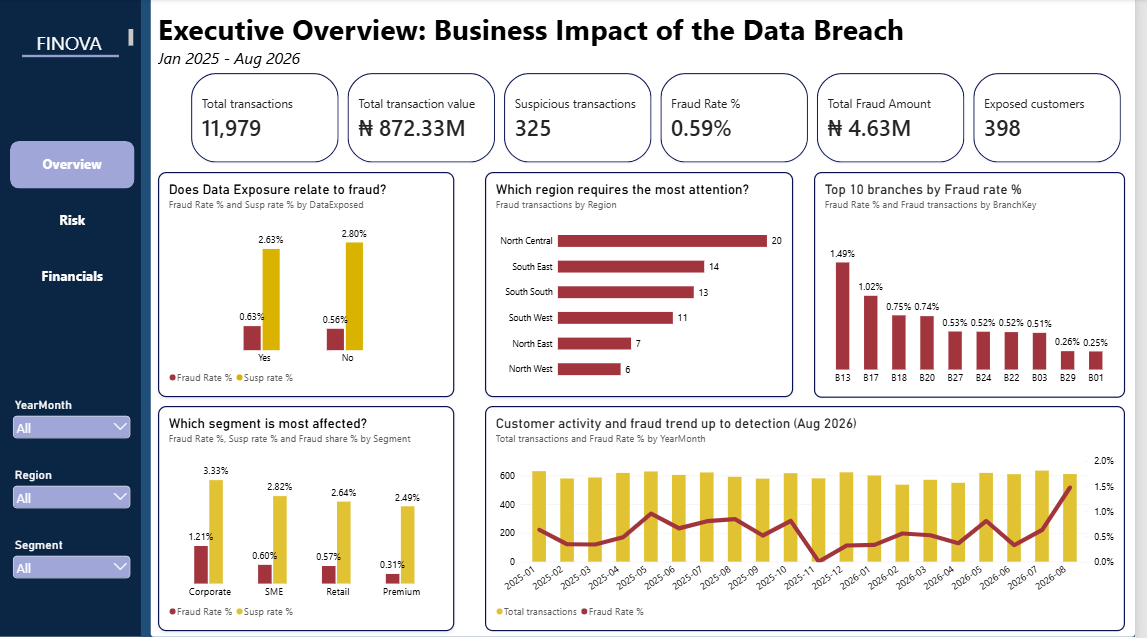

The page's visual inventory and layout, read from the dashboard file:
{"tool":"powerbi","page":{"name":"Overview ","canvas":[1920,1080],"ordinal":0},"visuals":[{"type":"cardVisual","fields":{"Data":["Measuress.Total transactions","Measuress.Total transaction value","Measuress.Suspicious transactions","Measuress.Fraud Rate %","Measuress.Fraud Amount","Measuress.Exposed customers"]},"box":[322.3,121.5,1579.5,158.6],"z":0},{"type":"clusteredColumnChart","title":"Which segment is most affected?","fields":{"Category":["Dim_CustomerSegment.Segment"],"Y":["Measuress.Fraud Rate %","Measuress.Susp rate %"]},"box":[270,686.8,499.5,379.7],"z":1000},{"type":"clusteredBarChart","title":"Which region requires the most attention?","fields":{"Category":["Dim_Region.Region"],"Y":["Measuress.Fraud txns"]},"box":[821.8,291.9,519.8,379.7],"z":2000},{"type":"lineClusteredColumnComboChart","title":"Customer activity and fraud trend up to detection (Aug 2026)","fields":{"Category":["Dim_Date.YearMonth"],"Y":["Measuress.Total transactions"],"Y2":["Measuress.Fraud Rate %"]},"box":[821.8,686.8,1080,379.7],"z":3000},{"type":"textbox","box":[269.2,17.3,1321.2,101.9],"z":5000},{"type":"pageNavigator","box":[20.2,239.6,210,270],"z":6000},{"type":"slicer","fields":{"Values":["Dim_Date.YearMonth"]},"box":[20.2,673.3,207.6,86.1],"z":7000},{"type":"slicer","fields":{"Values":["Dim_Region.Region"]},"box":[20.2,791.4,207.6,86.1],"z":8000},{"type":"slicer","fields":{"Values":["Dim_CustomerSegment.Segment"]},"box":[20.2,909.6,207.6,86.1],"z":9000},{"type":"textbox","box":[20.2,50.6,207.6,42.2],"z":10000},{"type":"shape","box":[40.5,70.9,163.7,50.6],"z":11000},{"type":"clusteredColumnChart","title":"Does Data Exposure relate to fraud?","fields":{"Category":["Dim_Customers.DataExposed"],"Y":["Measuress.Fraud Rate %","Measuress.Susp rate %"]},"box":[270,291.9,499.5,379.7],"z":12000},{"type":"clusteredColumnChart","title":"Top 10 branches by Fraud rate %","fields":{"Category":["Dim_Branch.BranchKey"],"Y":["Measuress.Fraud Rate %"]},"box":[1377,291.9,524.8,381.4],"z":12001}]}

Visuals, with their boxes on the page's 1920x1080 design canvas (x1, y1, x2, y2). These are canvas units, not pixel positions in the 1147x638 screenshot, which may show the page scaled, cropped or inside an application window:
cardVisual - Measuress.Total transactions x Measuress.Total transaction value: [322, 122, 1902, 280]
"Which segment is most affected?" clusteredColumnChart: [270, 687, 770, 1066]
"Which region requires the most attention?" clusteredBarChart: [822, 292, 1342, 672]
"Customer activity and fraud trend up to detection (Aug 2026)" lineClusteredColumnComboChart: [822, 687, 1902, 1066]
textbox: [269, 17, 1590, 119]
pageNavigator: [20, 240, 230, 510]
slicer - Dim_Date.YearMonth: [20, 673, 228, 759]
slicer - Dim_Region.Region: [20, 791, 228, 878]
slicer - Dim_CustomerSegment.Segment: [20, 910, 228, 996]
textbox: [20, 51, 228, 93]
shape: [40, 71, 204, 122]
"Does Data Exposure relate to fraud?" clusteredColumnChart: [270, 292, 770, 672]
"Top 10 branches by Fraud rate %" clusteredColumnChart: [1377, 292, 1902, 673]
